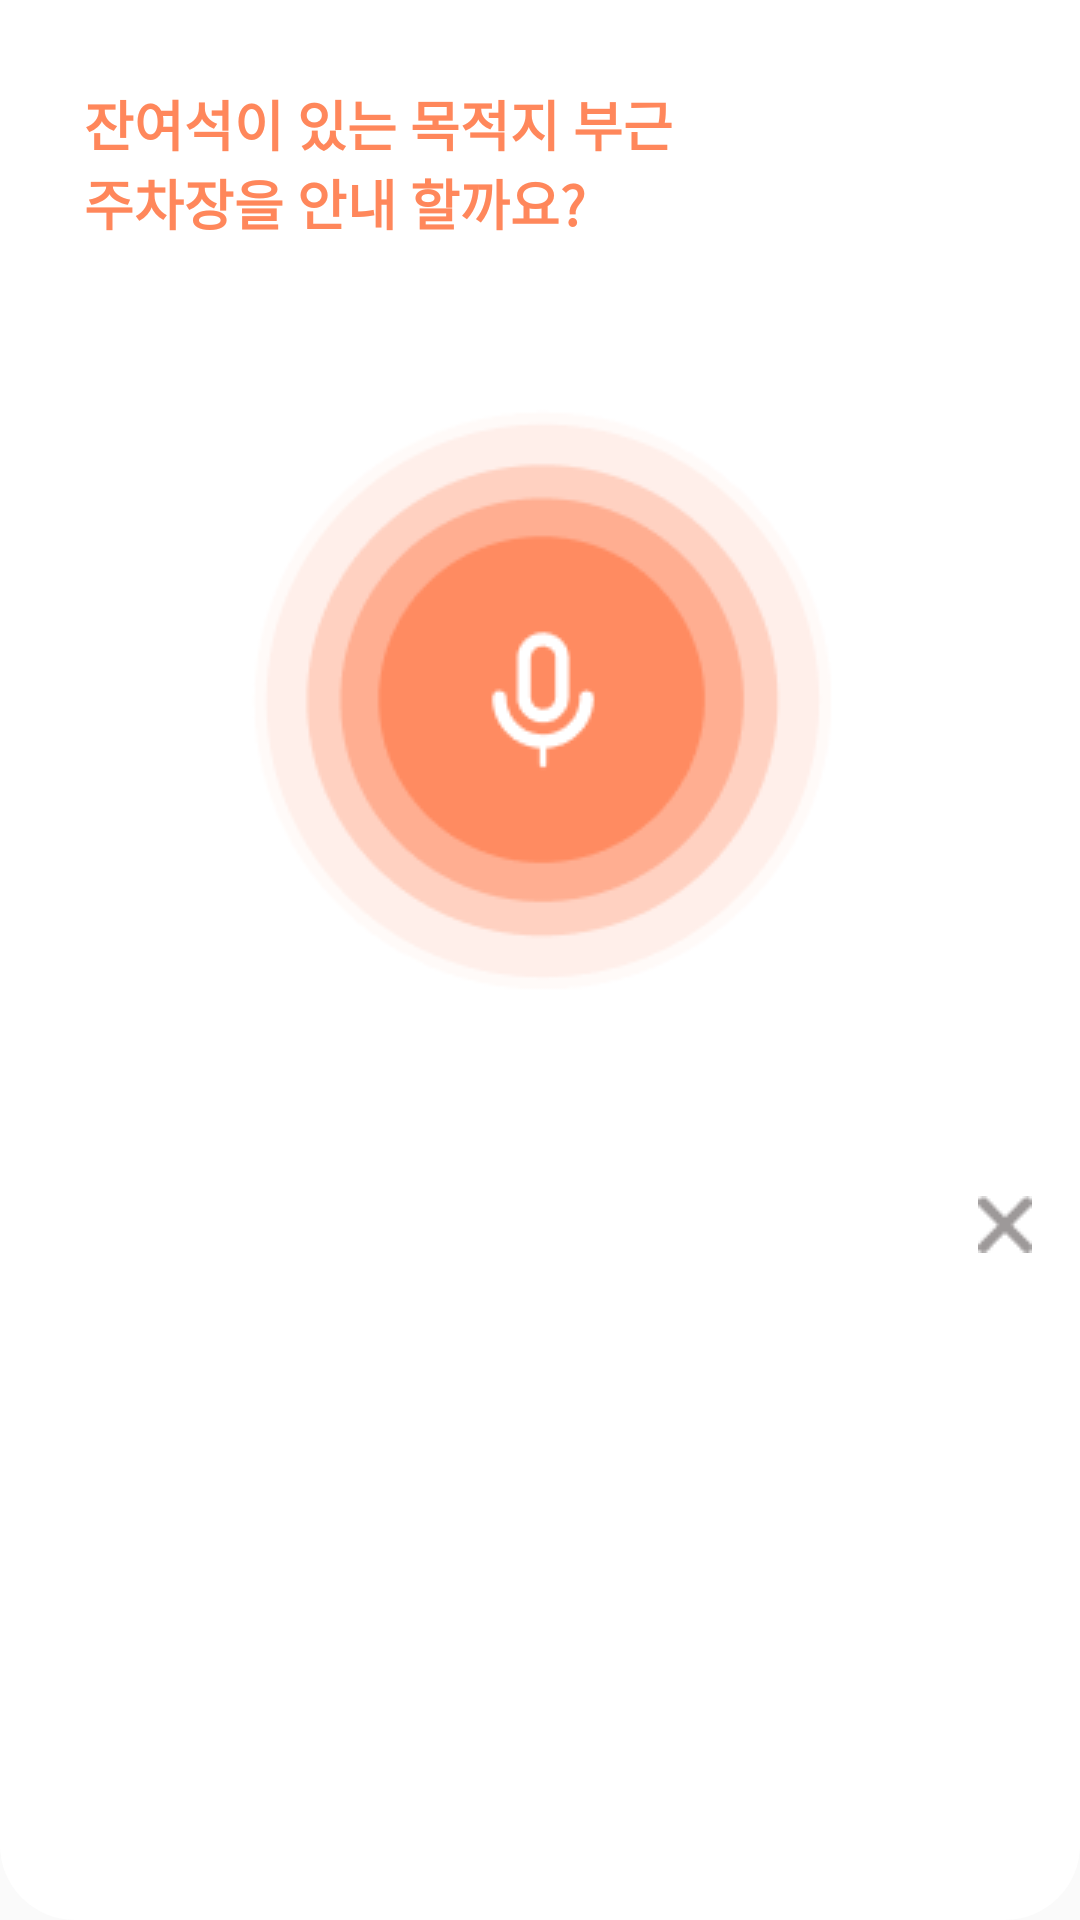

Icon bounding boxes for this 1080 x 1920 phone screenshot, format (x1, y1, x2, y2):
팝업 닫기 버튼: (978, 1196, 1032, 1253)
